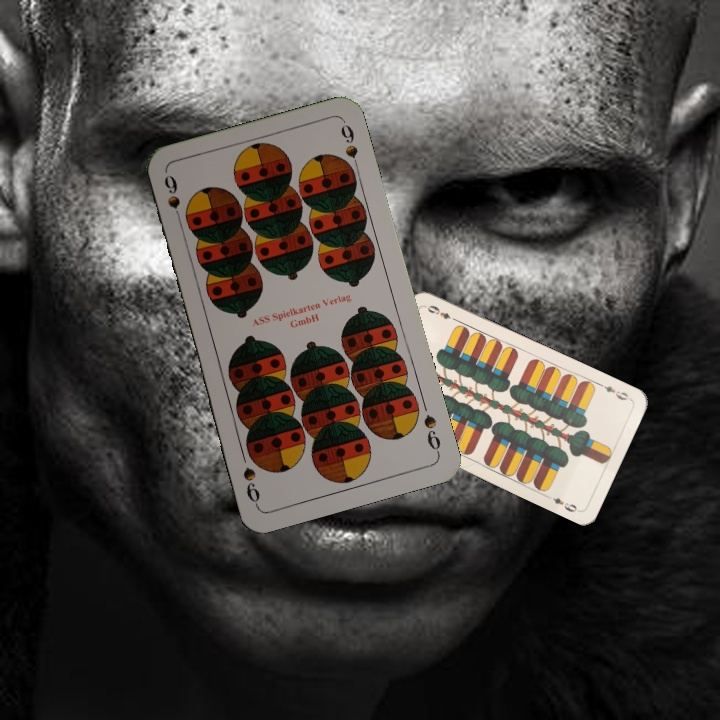E9: (595, 379, 633, 403)
S9: (160, 171, 186, 228), (419, 411, 443, 457)
